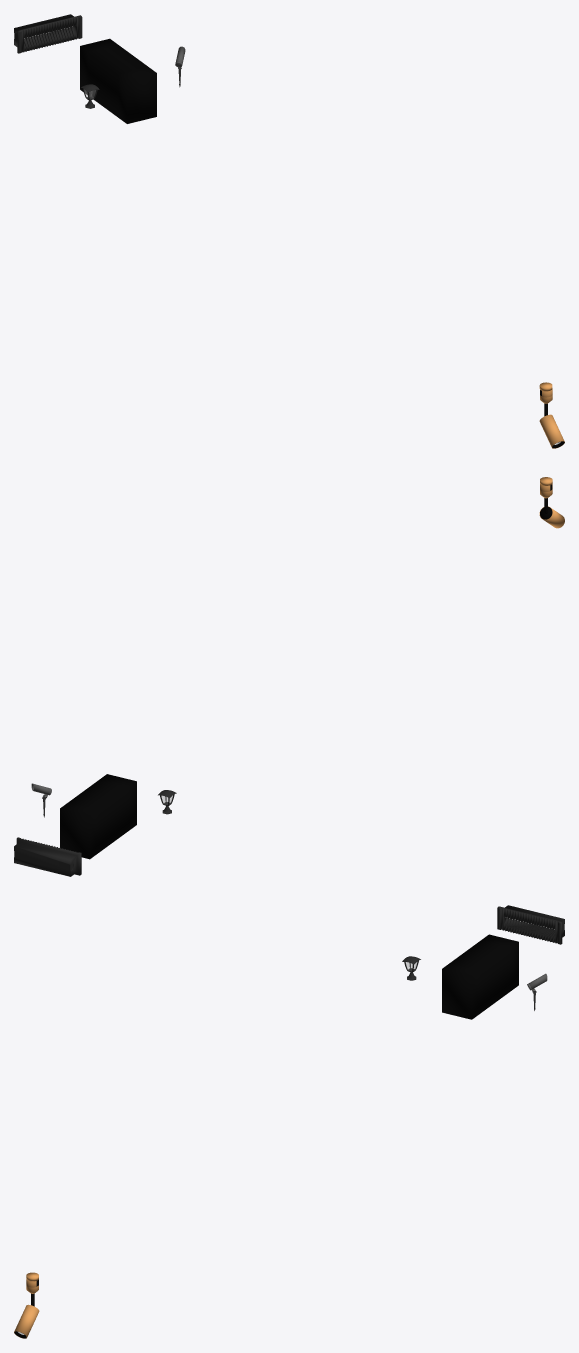
Rendered from Relic-G.glb.
3 views of the same model, one above another, from view 1: azimuth 30°, elevation 25°; view 2: azimuth 150°, elevation 25°; view 3: azimuth 330°, elevation 25° (orthographic).
Parts seen in each view (by area): view 1: Cube.007, Cube.031; view 2: Cube.007, Cube.031; view 3: Cube.007, Cube.031.
Boxes of the visible parts, left/top/right/bottom form: Cube.007: left=80, top=38, right=156, bottom=123; Cube.031: left=14, top=14, right=82, bottom=53; Cube.007: left=60, top=774, right=136, bottom=859; Cube.031: left=14, top=837, right=81, bottom=876; Cube.007: left=442, top=934, right=518, bottom=1019; Cube.031: left=497, top=905, right=564, bottom=944.
Size of the model in its own units: 6.45 by 2.97 by 47.56.
